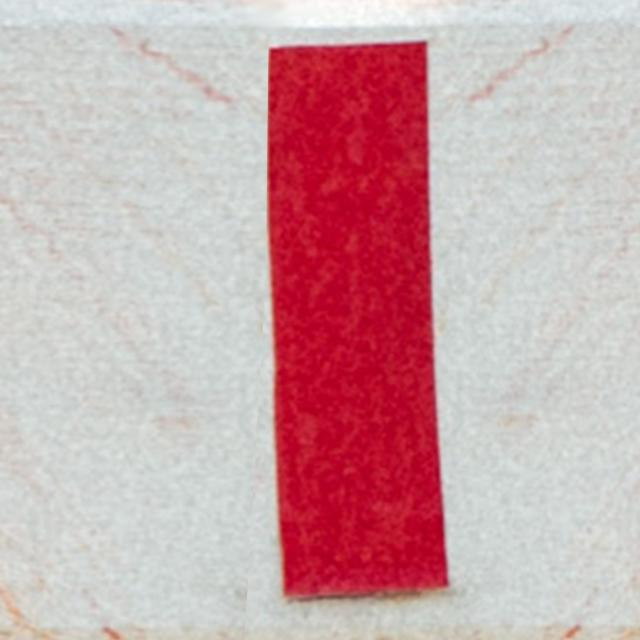I: (226, 28, 504, 613)
